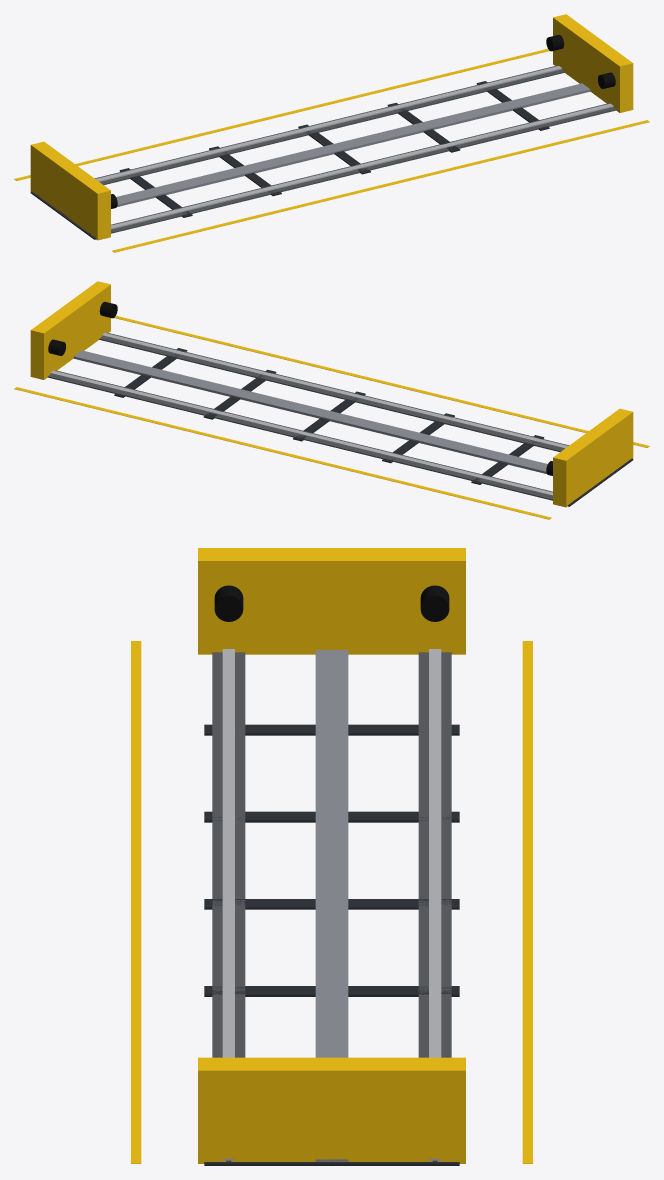
The model's file is rgv_track_6m.glb.
The picture shows the model from 3 angles, top to bottom: view 1: azimuth 30°, elevation 25°; view 2: azimuth 150°, elevation 25°; view 3: azimuth 270°, elevation 25°; orthographic projection. The views are drawn at different scales.
Parts seen in each view (by area): view 1: track__yellow, track__steel_dark, track__grey, track__steel, track__dark, track__rubber; view 2: track__yellow, track__steel_dark, track__grey, track__steel, track__dark, track__rubber; view 3: track__yellow, track__steel_dark, track__grey, track__steel, track__dark, track__rubber.
Boxes of the visible parts, x1,y1,x2,y2 form: track__yellow: (14,14,649,252); track__steel_dark: (38,65,616,233); track__grey: (60,83,590,217); track__steel: (37,66,613,233); track__dark: (30,81,549,239); track__rubber: (111,34,615,208); track__yellow: (14,281,649,519); track__steel_dark: (47,332,574,500); track__grey: (73,350,547,473); track__steel: (50,333,567,496); track__dark: (114,348,633,506); track__rubber: (48,301,552,475); track__yellow: (131,548,532,1163); track__steel_dark: (212,652,451,1161); track__grey: (315,650,348,1161); track__steel: (222,649,441,1160); track__dark: (204,724,459,1165); track__rubber: (214,585,449,621).
Bounding box in the file's own units: 6.04 × 0.5 × 1.95.
